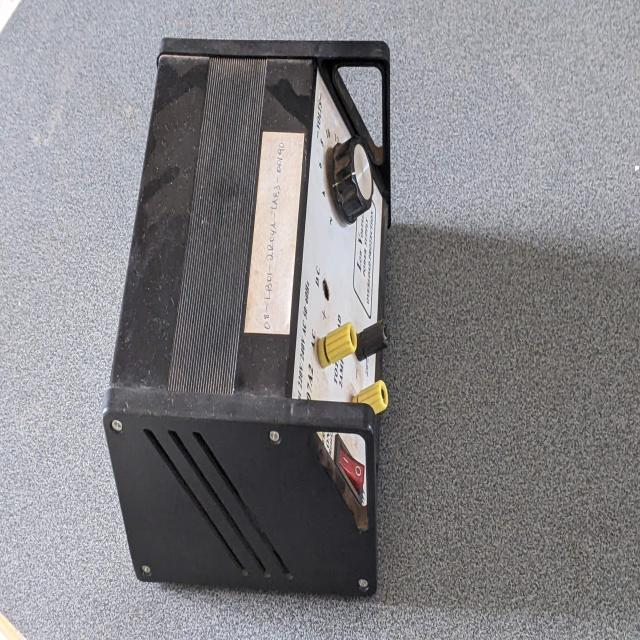AC-AD Regulated Power Supply: (100, 21, 396, 598)
